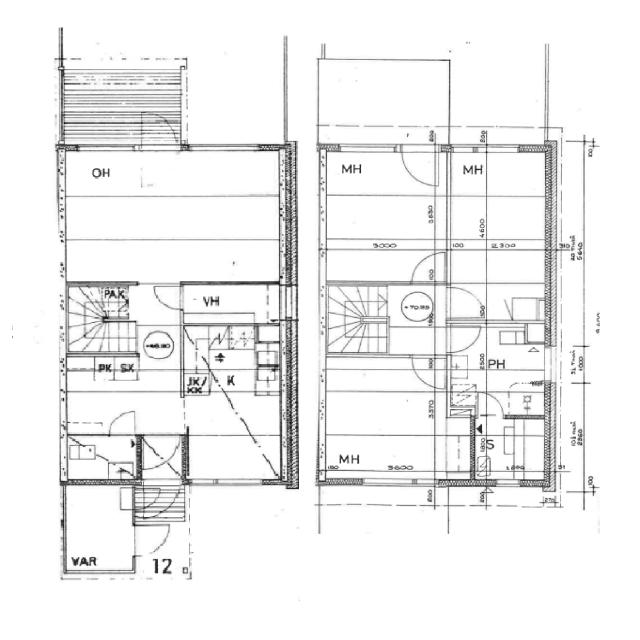door: (64, 432, 144, 483), (398, 144, 441, 189), (138, 110, 180, 155), (445, 283, 488, 321), (143, 432, 182, 472), (132, 521, 173, 558), (446, 321, 484, 356), (406, 251, 444, 285), (149, 281, 188, 313), (104, 406, 142, 438), (148, 482, 180, 515), (409, 356, 439, 390), (478, 392, 507, 419)
window: (193, 474, 271, 492), (186, 140, 262, 157), (450, 142, 526, 157), (335, 141, 397, 157), (278, 282, 301, 324), (360, 475, 424, 489), (493, 477, 525, 491), (450, 502, 482, 509)
zone: (66, 184, 286, 280), (319, 147, 444, 285), (444, 148, 549, 282), (318, 61, 452, 140), (448, 324, 549, 403), (182, 324, 282, 392), (61, 485, 135, 574), (475, 417, 549, 484), (62, 353, 175, 392), (180, 282, 282, 325), (60, 149, 146, 197), (65, 434, 142, 484), (398, 285, 440, 327)
